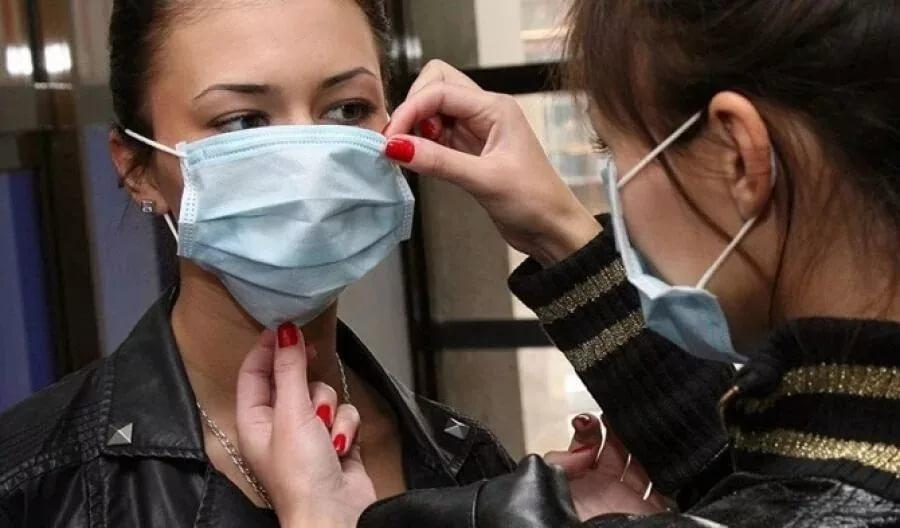mask: (148, 13, 402, 332), (574, 54, 786, 361)
